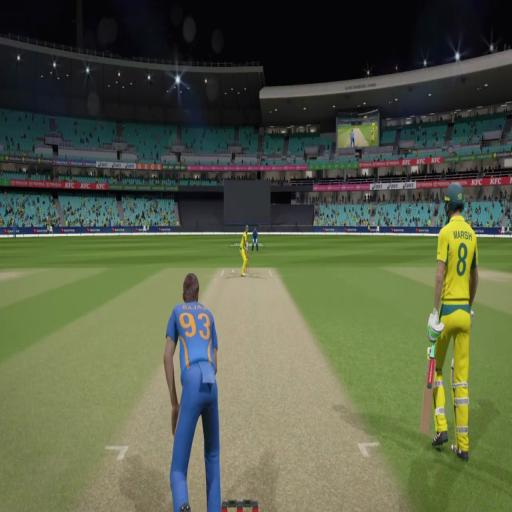ball: (231, 268, 234, 276)
